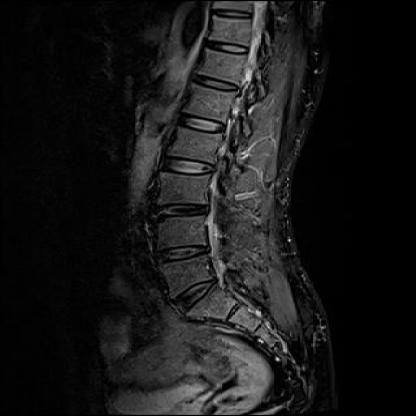Degenerative Disc Diseaserotation: (168, 279, 231, 310)
Disc Bulgerotation: (144, 200, 215, 228), (149, 241, 215, 266)
